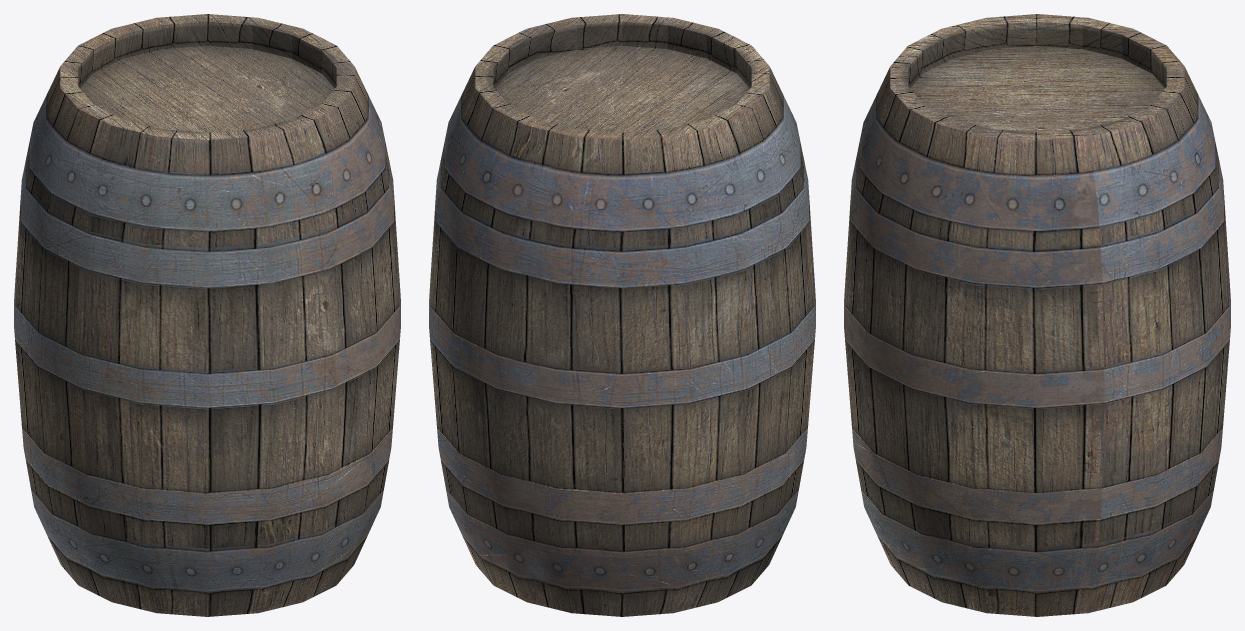
Rendered from WoodenBarrel_1.FBX.
3 views of the same model, side by side, from view 1: azimuth 30°, elevation 25°; view 2: azimuth 150°, elevation 25°; view 3: azimuth 270°, elevation 25° (orthographic).
Visible parts, largest first — view 1: Barrel_1; view 2: Barrel_1; view 3: Barrel_1.
Part boxes in pixels (<box>): Barrel_1: <box>14,14,400,616</box>; Barrel_1: <box>429,14,815,616</box>; Barrel_1: <box>844,14,1230,616</box>.
Bounding box in the file's own units: 164 × 219 × 161.
Materials: 1 (1 with a texture image).
